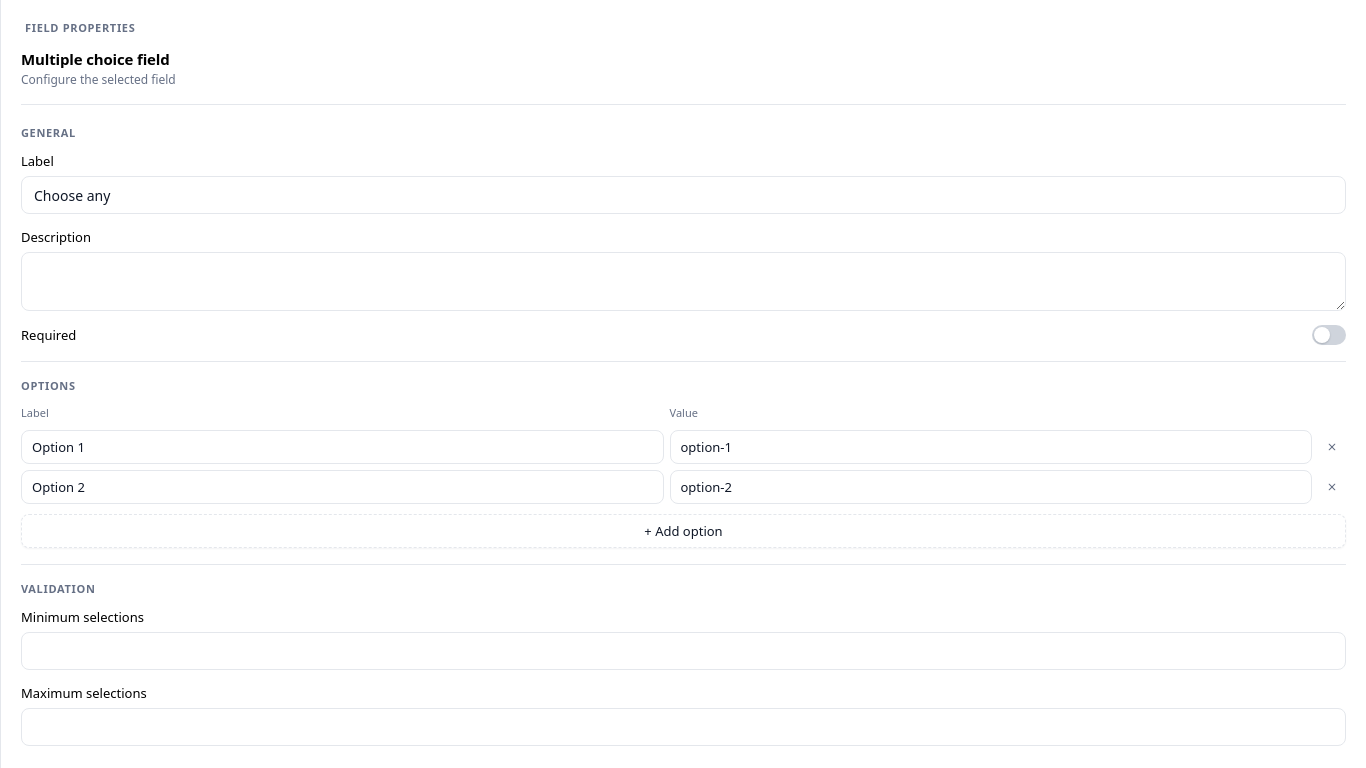
Test: PropertiesPanel for the new field types › MULTI_SELECT: bounds the number of selections
This screenshot has width=1366, height=768.
Type "3" into the number field labelled "Minimum selections".
click(684, 651); type("3")  # box [21, 632, 1346, 670]
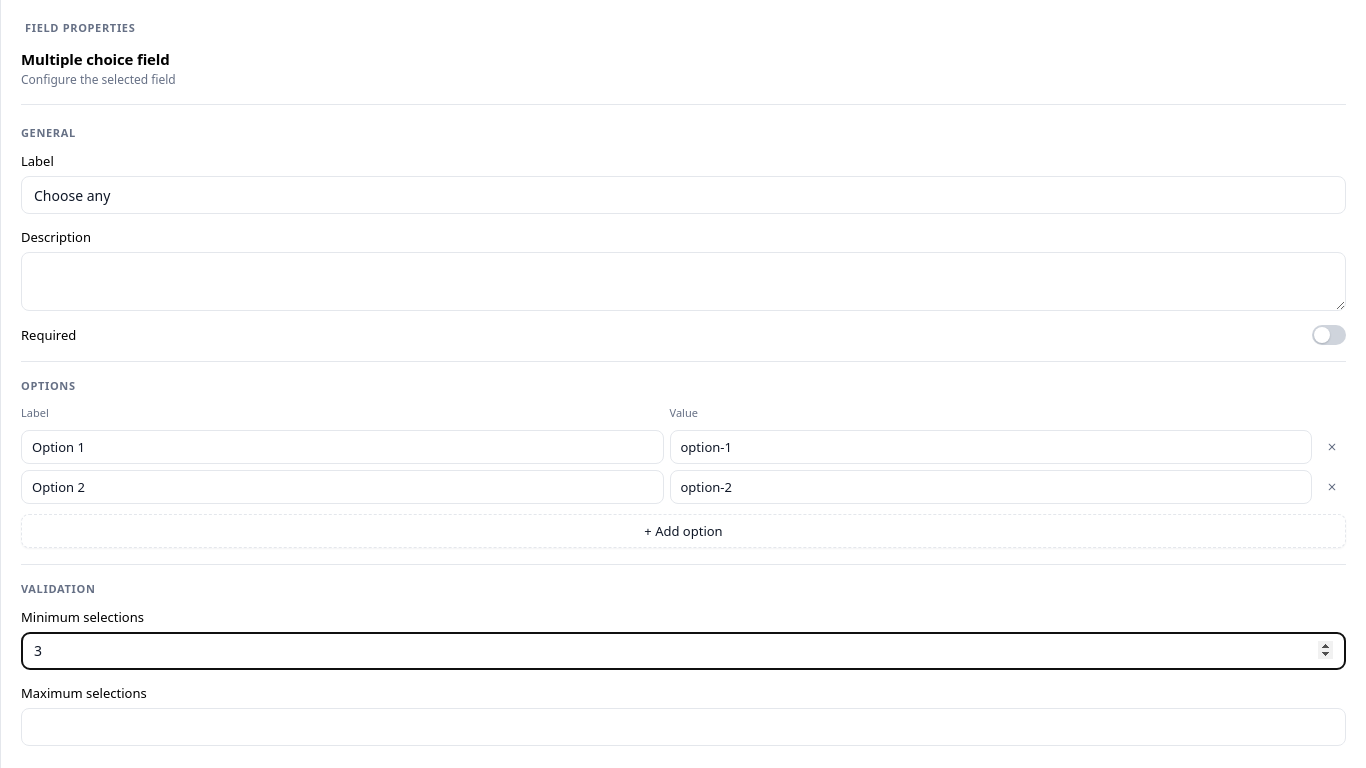
Type "1" into the number field labelled "Maximum selections".
click(684, 727); type("1")  # box [21, 708, 1346, 746]
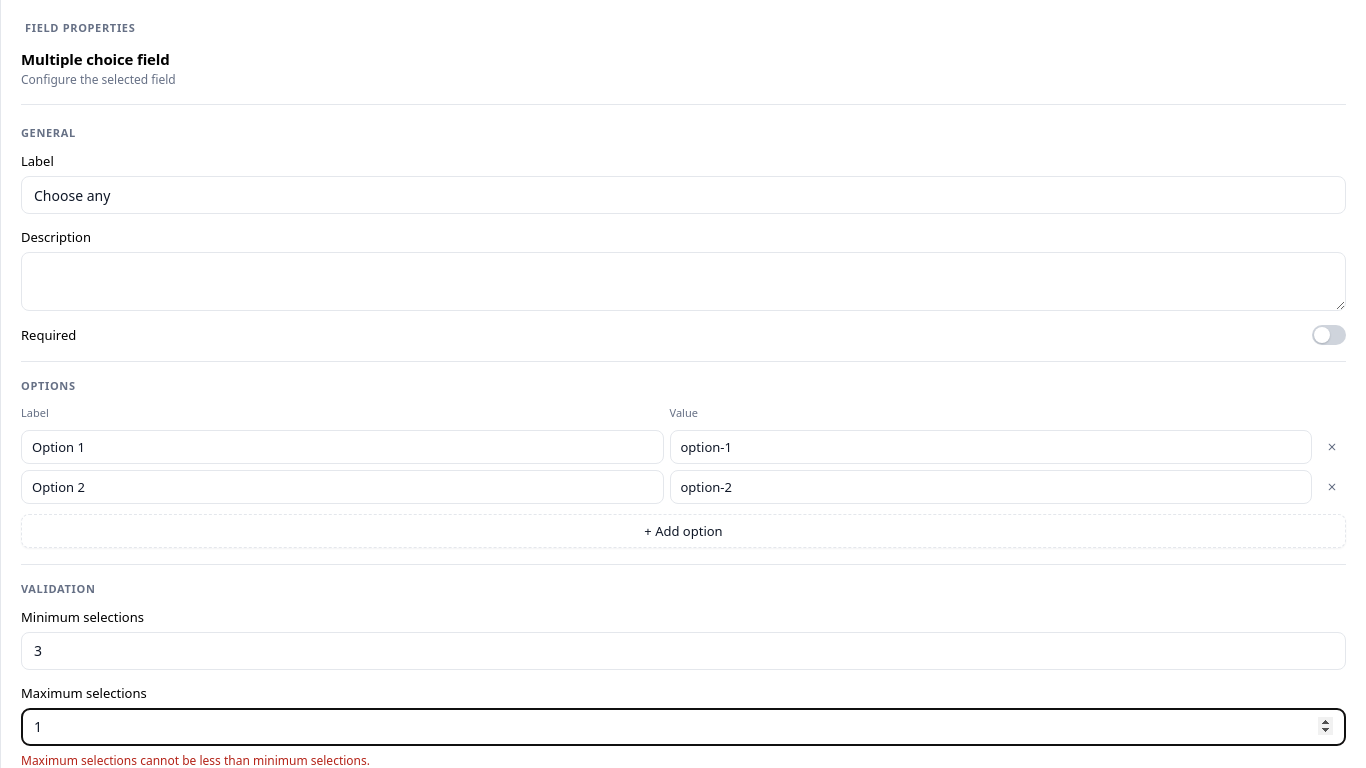
Now the text "Maximum selections cannot be less than minimum selections." is shown, box [21, 752, 370, 767]
